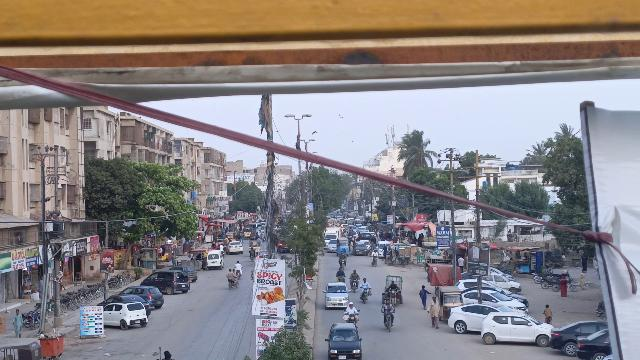Bike: (382, 312, 395, 332), (360, 287, 372, 304), (227, 277, 240, 292), (346, 312, 361, 324), (349, 278, 361, 292)
Car: (480, 308, 554, 348), (549, 320, 605, 356), (460, 290, 529, 313), (447, 304, 500, 333), (324, 322, 364, 360), (138, 269, 193, 296), (101, 302, 149, 329), (574, 326, 610, 359), (121, 285, 165, 309), (322, 280, 352, 309)
Cart: (380, 275, 406, 303)
Person: (426, 294, 442, 329), (11, 309, 26, 338), (416, 284, 429, 309), (381, 297, 395, 313), (348, 267, 360, 280), (345, 300, 356, 314), (336, 265, 346, 278), (389, 279, 399, 292), (361, 276, 371, 289), (226, 268, 234, 279), (231, 267, 238, 279)
